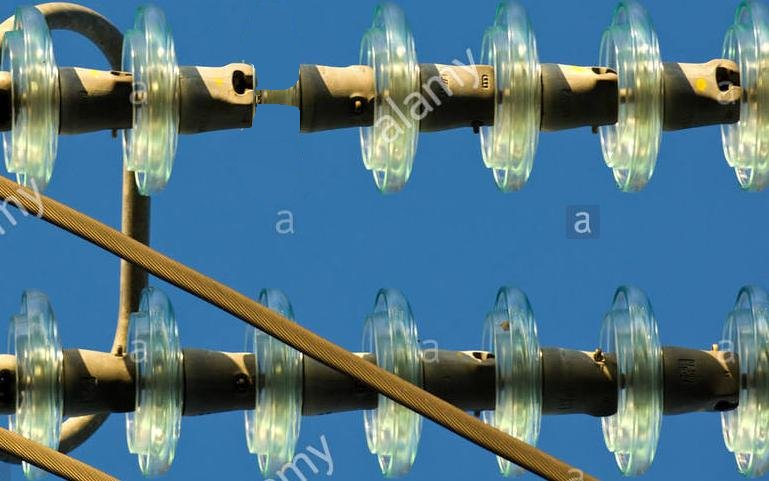gap: (108, 1, 423, 198)
